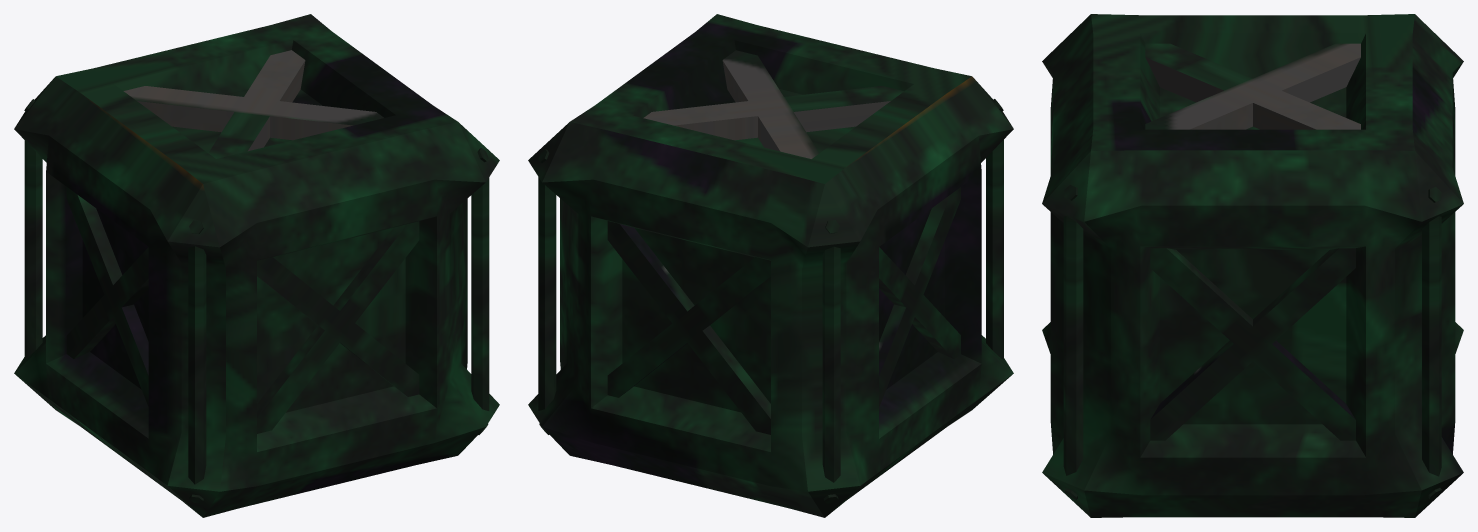
File: SM_Box_LowPoly1.fbx
3 views of the same model, side by side, from view 1: azimuth 30°, elevation 25°; view 2: azimuth 150°, elevation 25°; view 3: azimuth 270°, elevation 25° (orthographic). The views are drawn at different scales.
Parts seen in each view (by area): view 1: SM_Box_LowPoly; view 2: SM_Box_LowPoly; view 3: SM_Box_LowPoly.
Part boxes in pixels (<box>): SM_Box_LowPoly: <box>14,14,499,517</box>; SM_Box_LowPoly: <box>528,14,1013,517</box>; SM_Box_LowPoly: <box>1042,14,1463,517</box>.
Bounding box in the file's own units: 20.84 × 20.01 × 20.84.
1 material, 1 textured.
